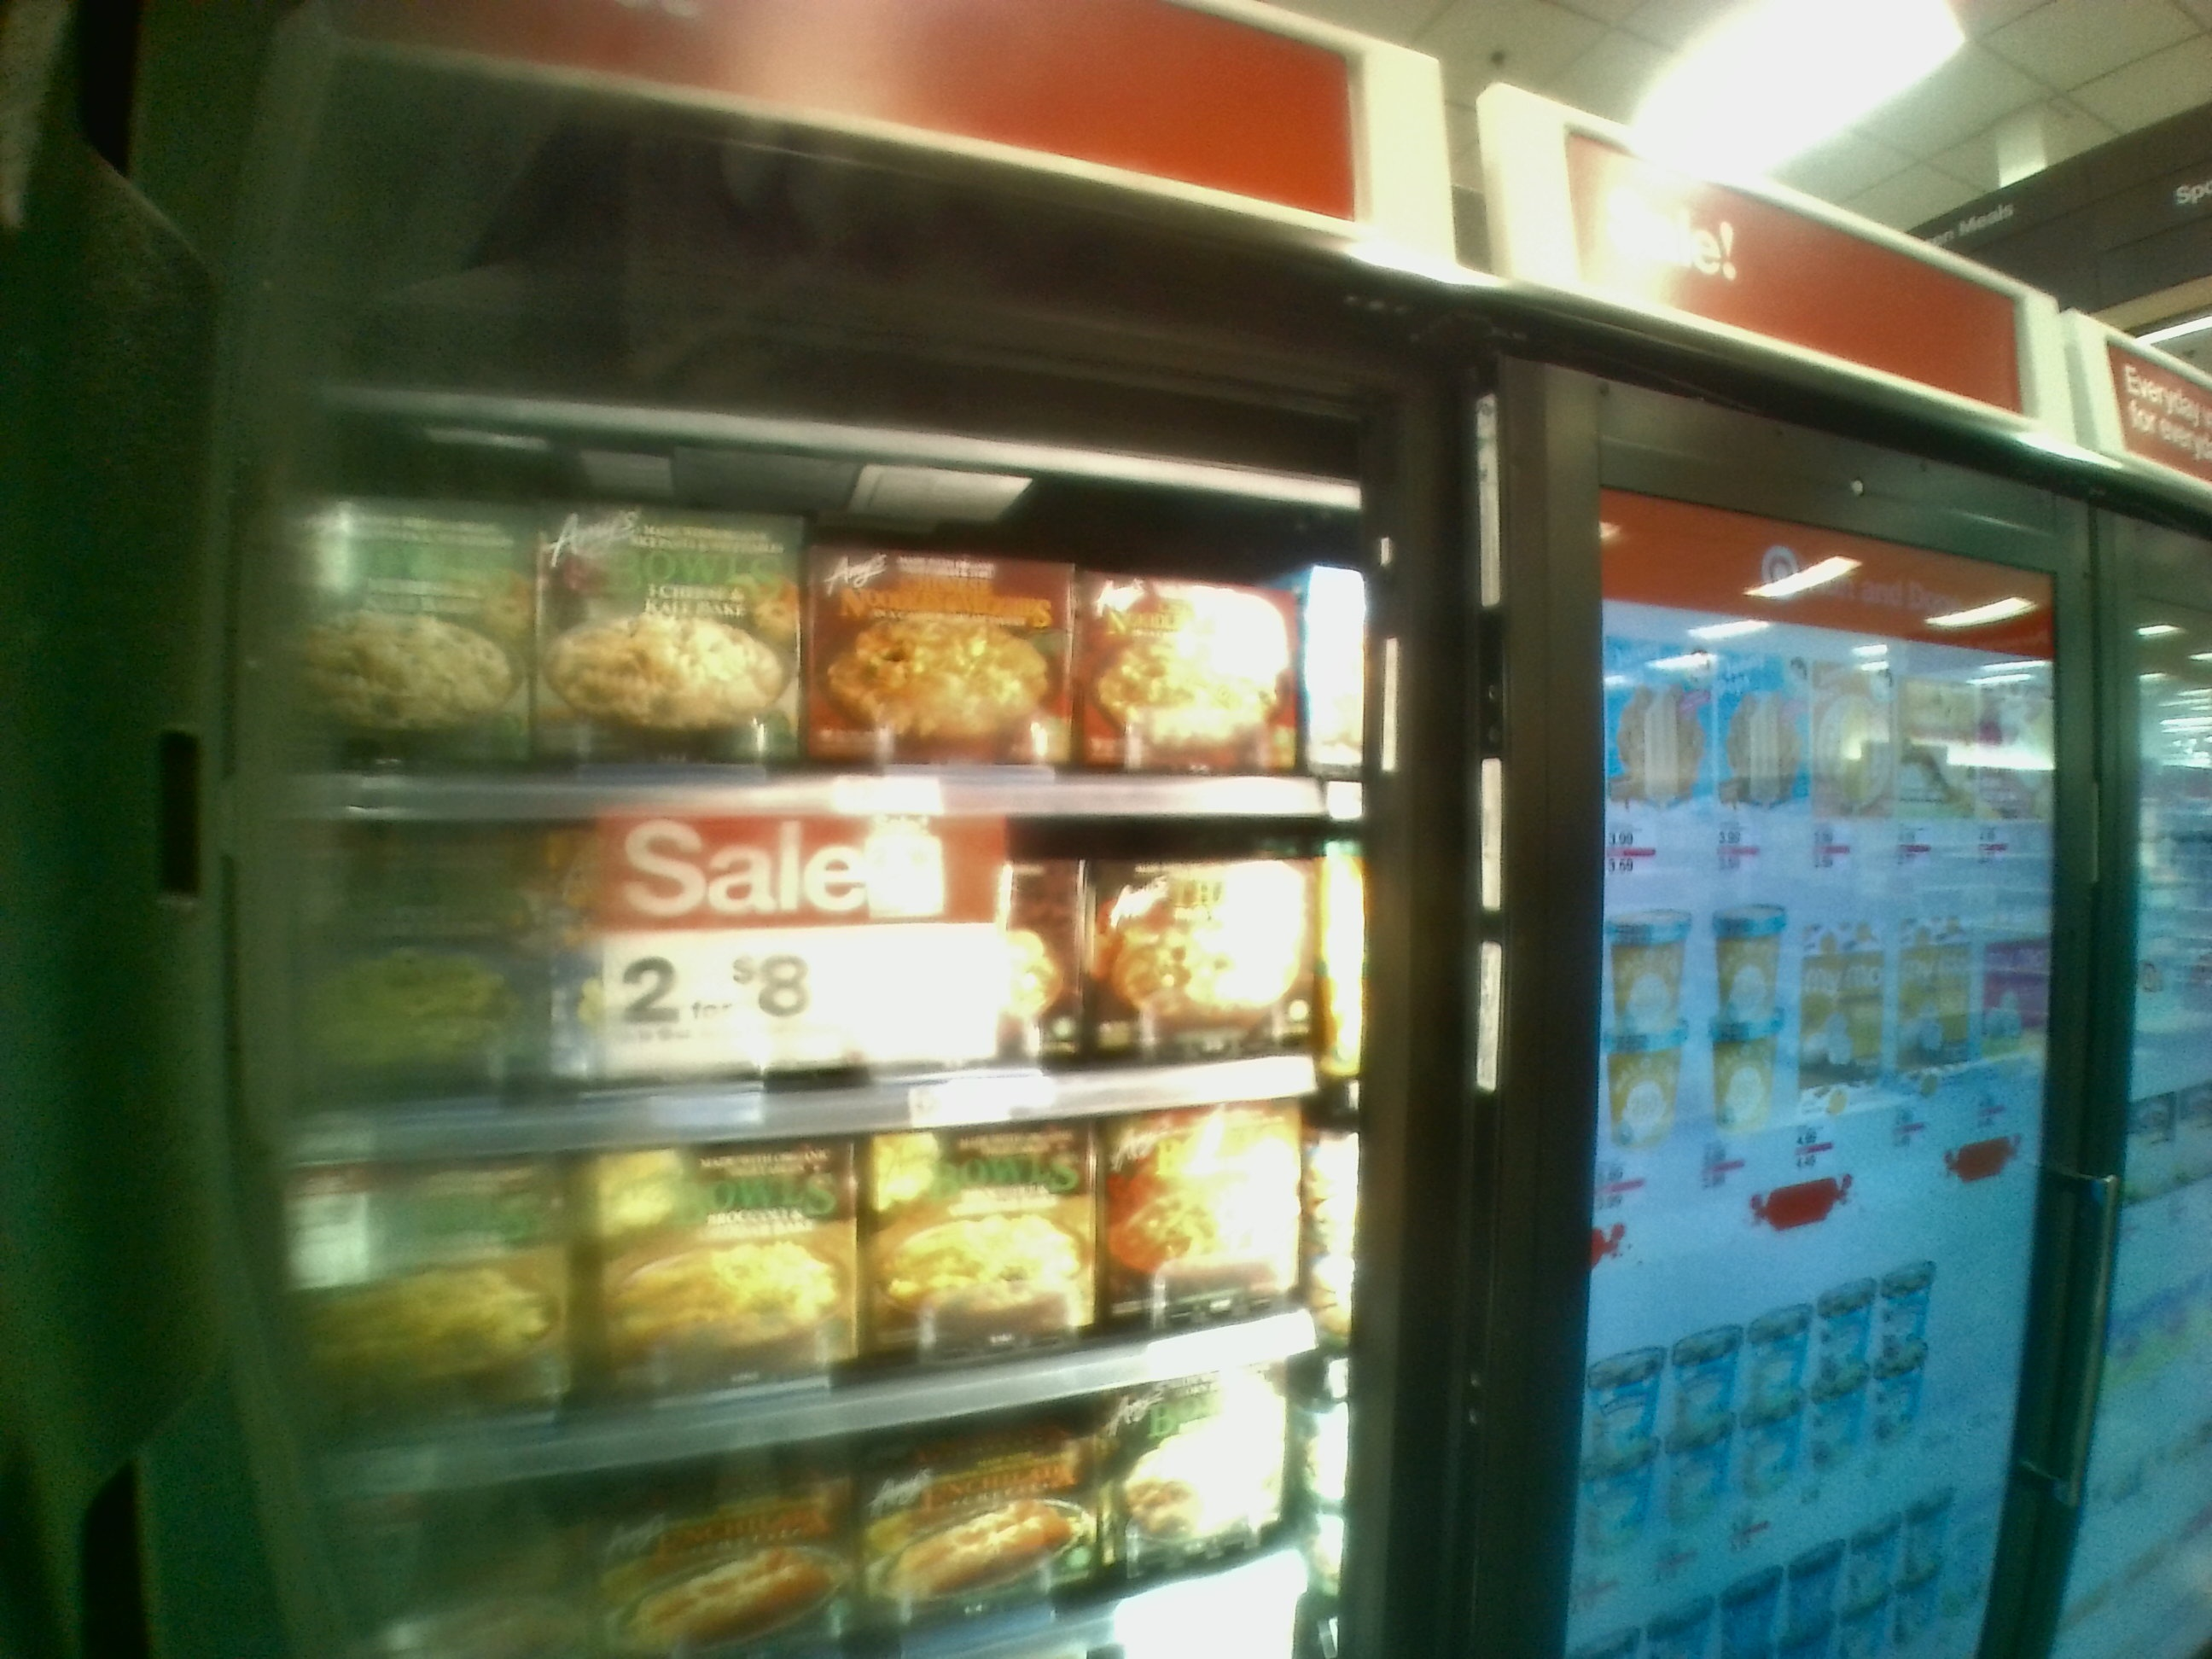shelf: (261, 432, 1367, 823), (270, 824, 1336, 1133), (284, 1152, 1345, 1431)
